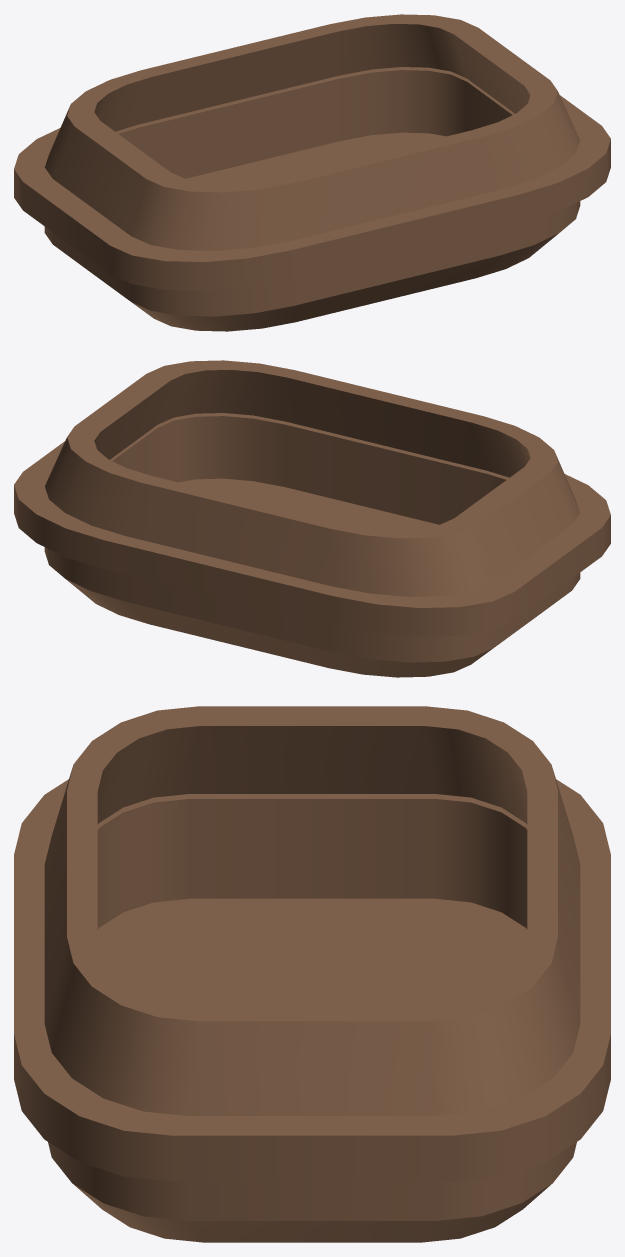
File: cat tilet ver1.fbx
3 views of the same model, one above another, from view 1: azimuth 30°, elevation 25°; view 2: azimuth 150°, elevation 25°; view 3: azimuth 270°, elevation 25° (orthographic). The views are drawn at different scales.
Visible parts, largest first — view 1: 平面.001, 平面; view 2: 平面.001, 平面; view 3: 平面.001, 平面.
Boxes of the visible parts, x1,y1,x2,y2 form: 平面.001: (14, 14, 610, 290); 平面: (44, 67, 580, 331); 平面.001: (14, 360, 610, 636); 平面: (44, 413, 580, 677); 平面.001: (14, 706, 610, 1181); 平面: (48, 794, 576, 1242).
Bounding box in the file's own units: 255 × 70.95 × 168.
